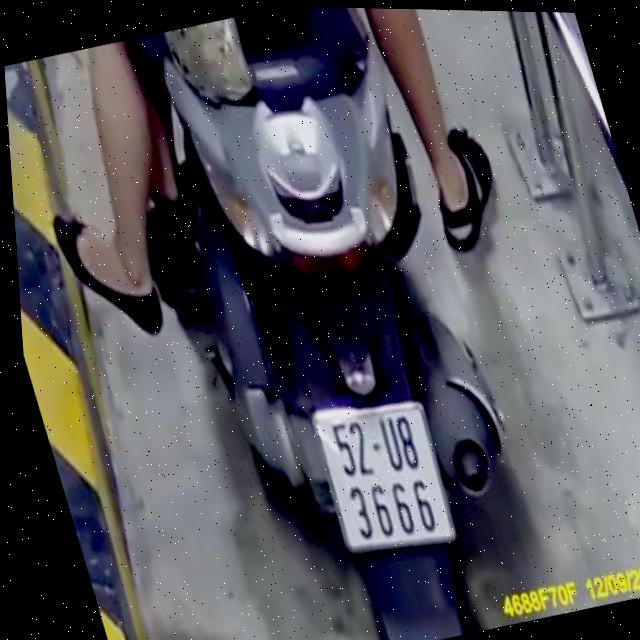motorcycle: (111, 2, 567, 640)
plate: (300, 382, 470, 569)
